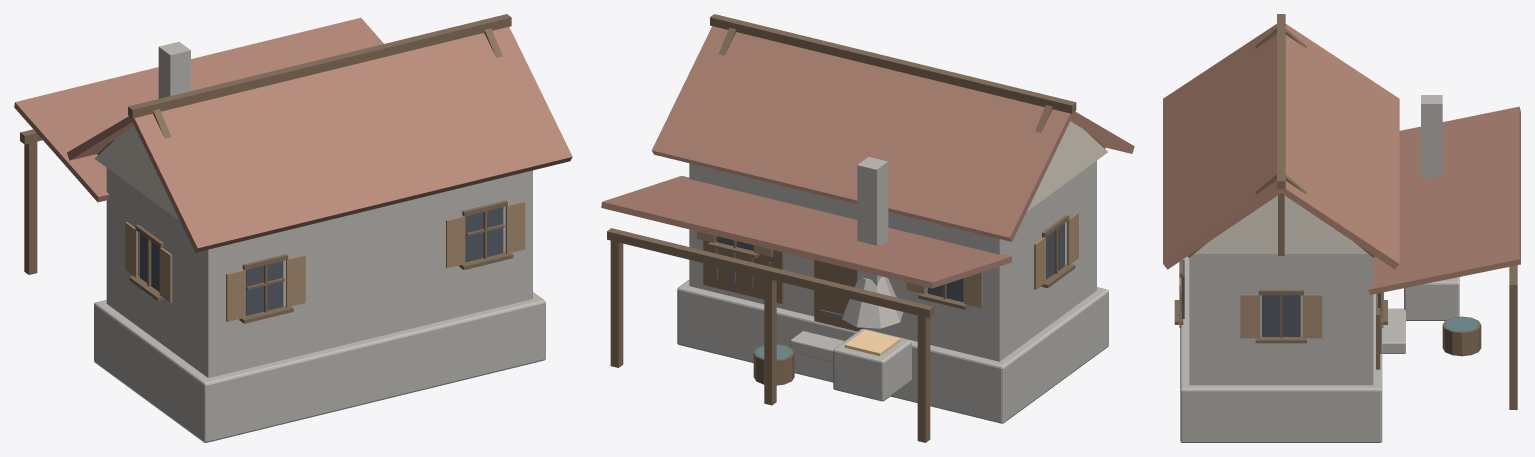
The model's file is smithy.glb.
The picture shows the model from 3 angles, left to right: view 1: azimuth 30°, elevation 25°; view 2: azimuth 150°, elevation 25°; view 3: azimuth 270°, elevation 25°; orthographic projection. The views are drawn at different scales.
Visible parts, largest first — view 1: smithy; view 2: smithy; view 3: smithy.
Boxes of the visible parts, bbox=[...] form: smithy: bbox=[14, 14, 572, 442]; smithy: bbox=[601, 14, 1134, 442]; smithy: bbox=[1163, 14, 1520, 442].
Size of the model in its own units: 9.2 by 6.95 by 8.32.
